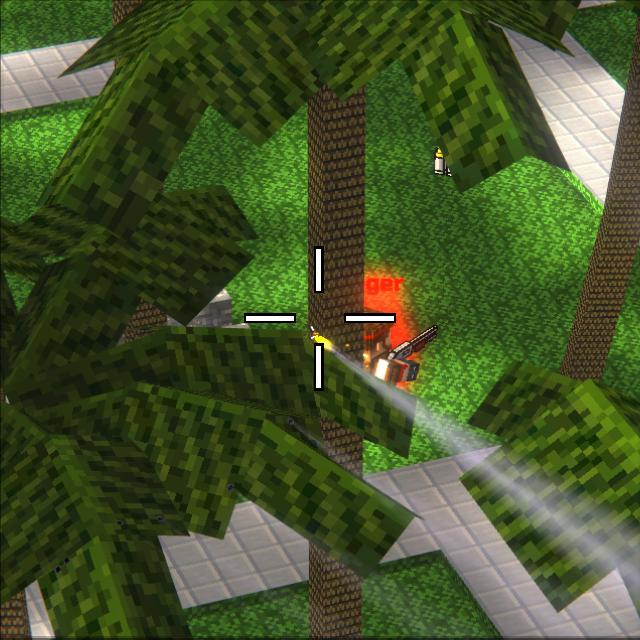Enemy: (360, 308, 417, 391)
